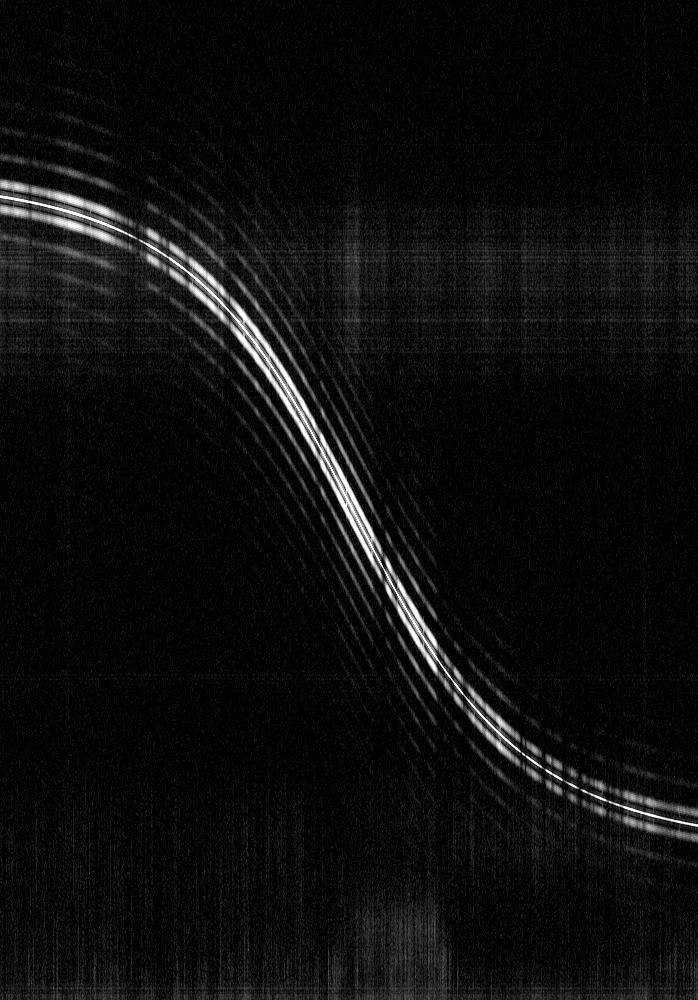signal: (0, 0, 697, 999)
